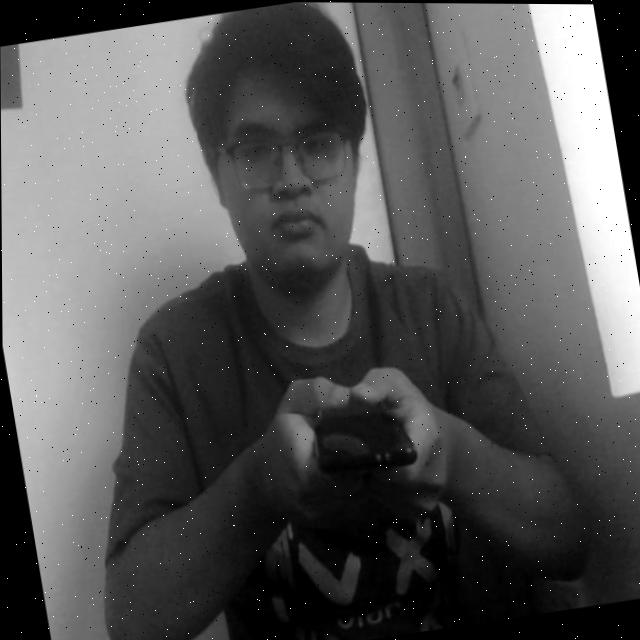phone: (280, 368, 428, 506)
